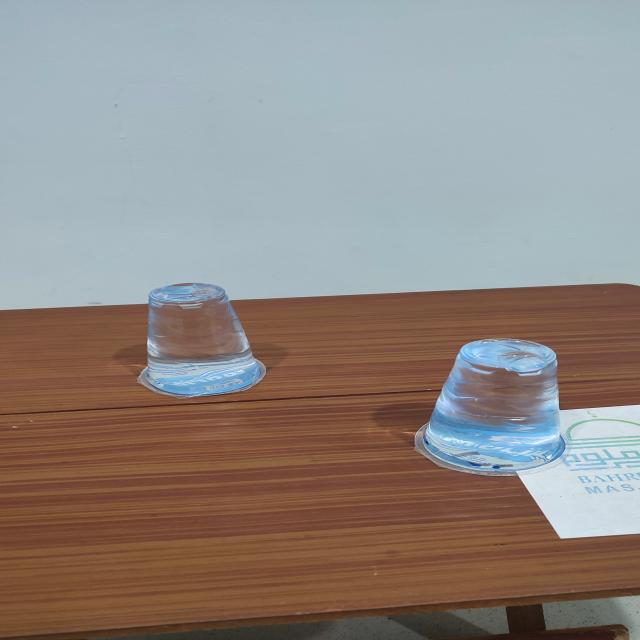air gelas: (412, 337, 581, 480), (128, 276, 290, 399)
